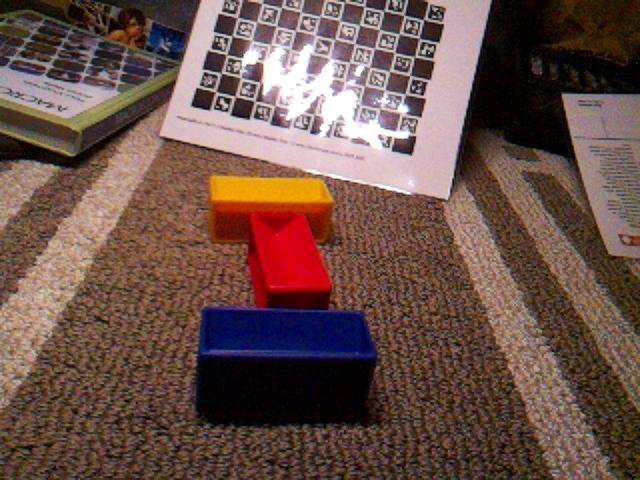blue: (194, 304, 379, 424)
red: (245, 210, 333, 309)
yellow: (207, 174, 335, 245)
